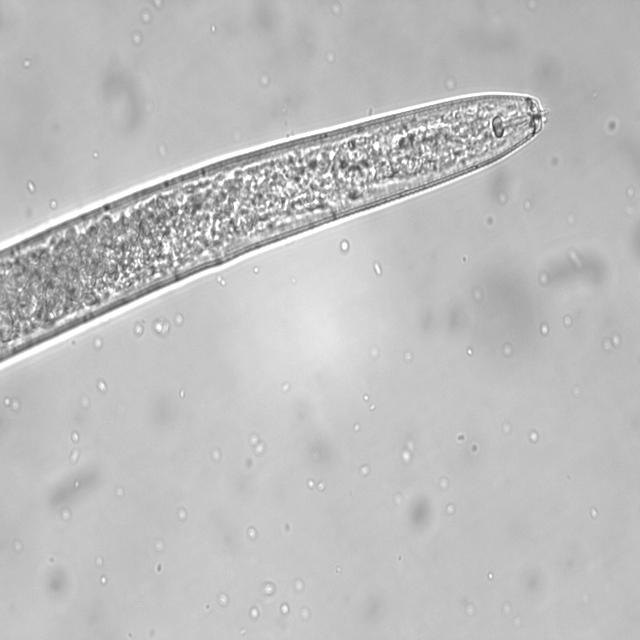Pratylenchus: (0, 90, 550, 379)
